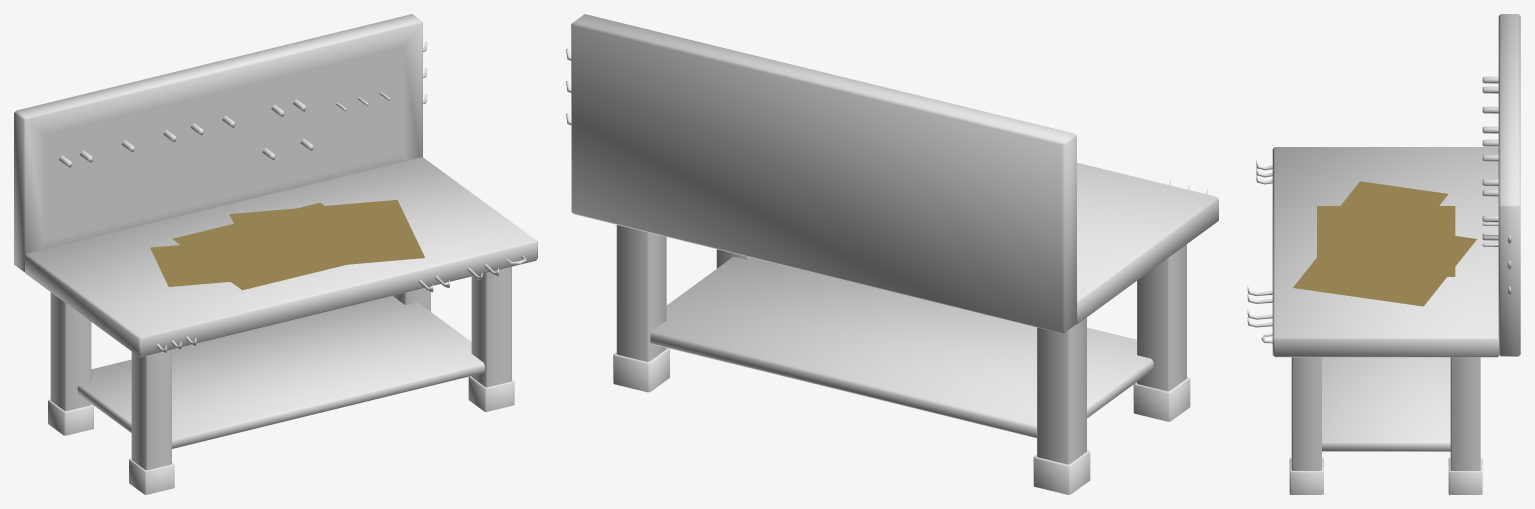
The model's file is Workbench.fbx.
3 renders of one model, left to right at view 1: azimuth 30°, elevation 25°; view 2: azimuth 150°, elevation 25°; view 3: azimuth 270°, elevation 25°, orthographic. The views are drawn at different scales.
Parts seen in each view (by area): view 1: lv1Workbench, lv2Workbench, lv1Papers, lv2Papers, lv2Holders; view 2: lv2Workbench, lv1Workbench; view 3: lv1Workbench, lv1Papers, lv2Workbench, lv2Papers, lv2Holders, lv1Hanger.
Part boxes in pixels (x1,y1,x2,y2): lv1Workbench: (25,157,537,494); lv2Workbench: (14,14,422,272); lv1Papers: (172,199,424,290); lv2Papers: (150,245,230,286); lv2Holders: (59,91,390,167); lv2Workbench: (571,14,1076,333); lv1Workbench: (613,162,1218,494); lv1Workbench: (1272,147,1499,494); lv1Papers: (1293,206,1476,306); lv2Workbench: (1498,14,1520,356); lv2Papers: (1340,181,1448,205); lv2Holders: (1482,76,1498,246); lv1Hanger: (1247,286,1272,327).
Size of the model in its own units: 2.41 by 2.89 by 4.09.
